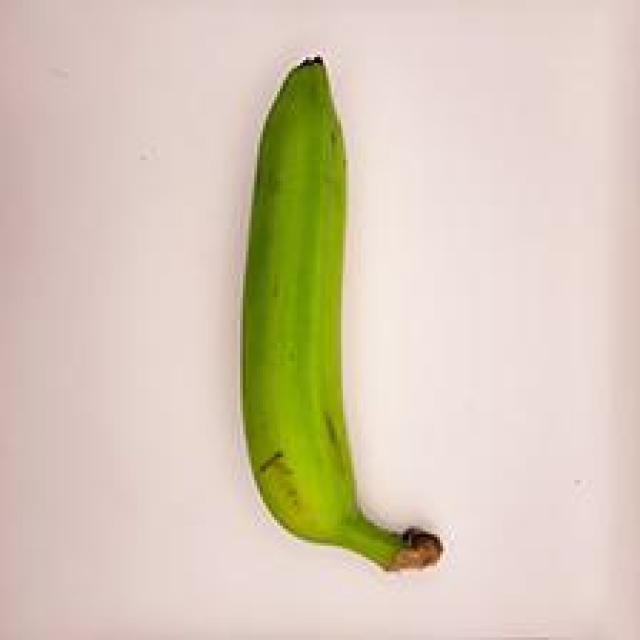Raw: (191, 52, 473, 592)
